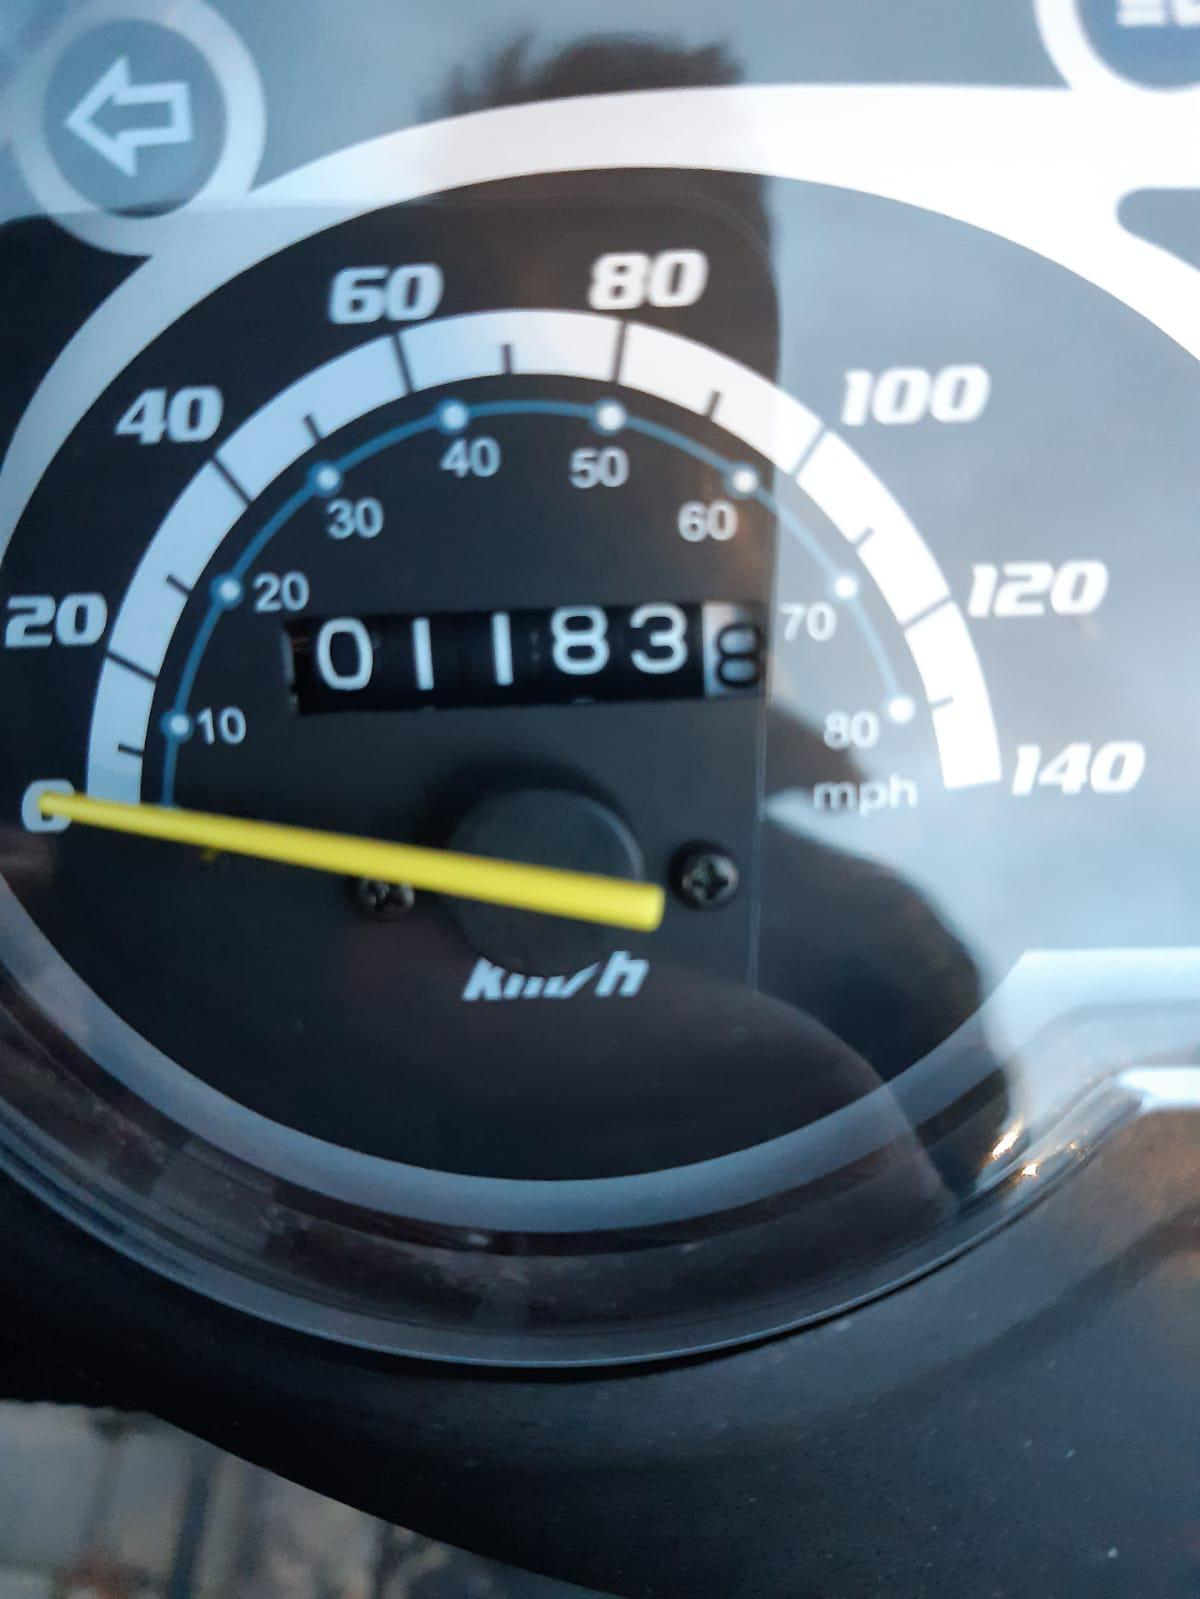0: (313, 609, 384, 706)
1: (395, 609, 444, 699), (476, 602, 522, 701)
3: (626, 602, 695, 691)
8: (715, 616, 770, 709), (548, 604, 608, 683)
odometer: (281, 596, 785, 736)
